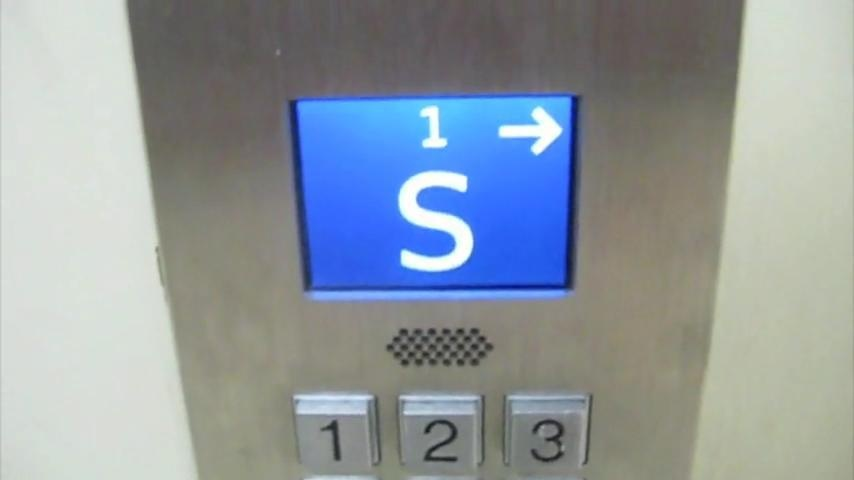1: (290, 389, 383, 475)
2: (395, 390, 489, 476)
3: (503, 389, 594, 477)
led: (289, 91, 582, 299)
